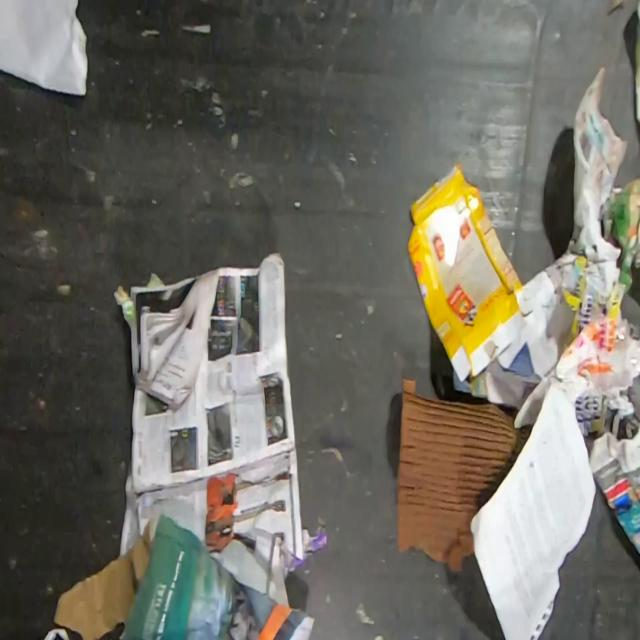cardboard: (406, 162, 536, 385), (396, 378, 533, 574), (52, 518, 154, 640)
